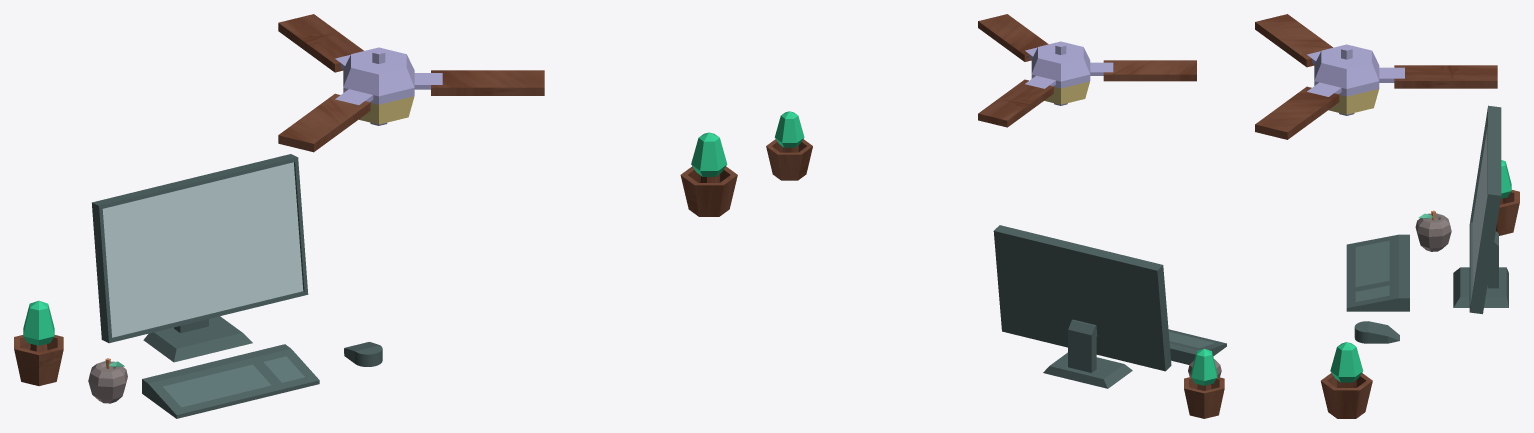
Rendered from Level_0_1_Items.fbx.
3 renders of one model, left to right at view 1: azimuth 30°, elevation 25°; view 2: azimuth 150°, elevation 25°; view 3: azimuth 270°, elevation 25°, orthographic. The views are drawn at different scales.
Visible parts, largest first — view 1: computerScreen, ceilingFan, computerKeyboard, plantSmall3 (×2), apple, computerMouse; view 2: computerScreen, ceilingFan, plantSmall3 (×2), computerKeyboard; view 3: ceilingFan, computerScreen, computerKeyboard, plantSmall3 (×2), apple, computerMouse.
Boxes of the visible parts, left/top/right/bottom form: computerScreen: left=92, top=154, right=308, bottom=362; ceilingFan: left=278, top=14, right=544, bottom=152; computerKeyboard: left=142, top=344, right=319, bottom=418; plantSmall3 (×2): left=14, top=132, right=737, bottom=385; apple: left=88, top=358, right=127, bottom=403; computerMouse: left=344, top=342, right=382, bottom=366; computerScreen: left=993, top=225, right=1171, bottom=388; ceilingFan: left=978, top=14, right=1196, bottom=127; plantSmall3 (×2): left=766, top=111, right=1224, bottom=418; computerKeyboard: left=1168, top=329, right=1226, bottom=364; ceilingFan: left=1255, top=14, right=1497, bottom=139; computerScreen: left=1453, top=105, right=1508, bottom=314; computerKeyboard: left=1346, top=234, right=1409, bottom=311; plantSmall3 (×2): left=1321, top=160, right=1519, bottom=418; apple: left=1415, top=210, right=1451, bottom=251; computerMouse: left=1354, top=321, right=1399, bottom=343.
Size of the model in its own units: 25 by 12.4 by 9.93.
Materials: 10 (1 with a texture image).
